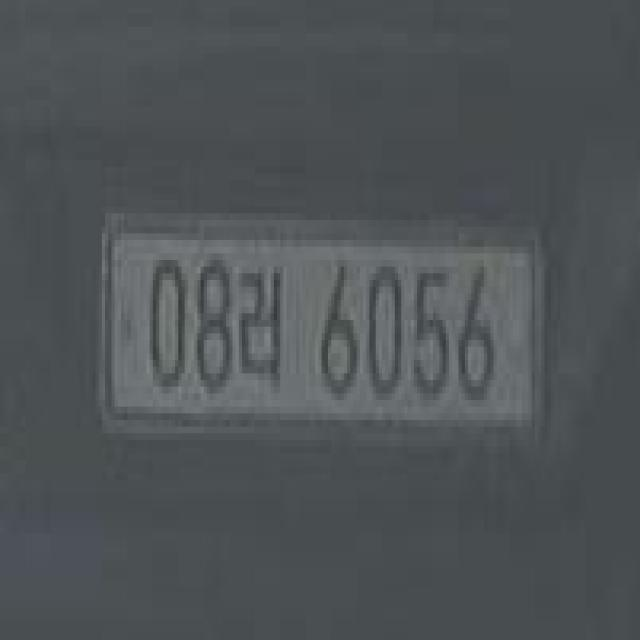illegal_plate: (99, 202, 542, 458)
